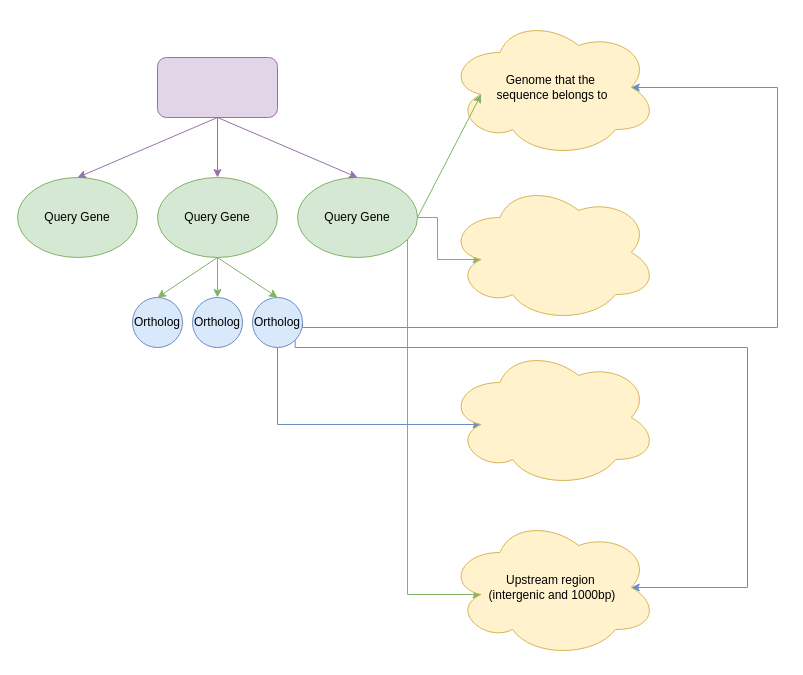
Some shapes in this 803 by 675 pixel diagram are drawn without their labels. The shapes that lost their labels are listed below. From the top down, each one's centre as x and y in pixels, then its label:
(x=217, y=87): List of Genes
(x=552, y=252): Orthologous genes
(x=552, y=417): Query gene that gene was found to be ortholgous to
